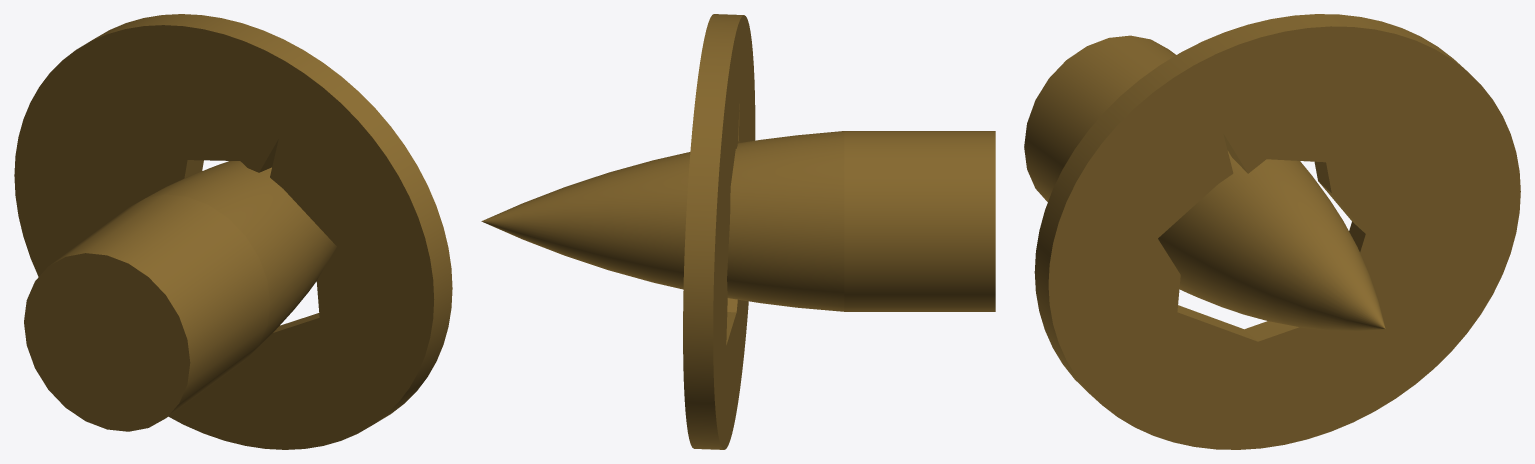
The model's file is Bullet-coin.obj.
The picture shows the model from 3 angles, left to right: view 1: azimuth 30°, elevation 25°; view 2: azimuth 150°, elevation 25°; view 3: azimuth 270°, elevation 25°; orthographic projection. The views are drawn at different scales.
Parts seen in each view (by area): view 1: Body361; view 2: Body361; view 3: Body361.
Part boxes in pixels (x1,y1,x2,y2): Body361: (14,14,452,449); Body361: (481,14,995,449); Body361: (1024,14,1520,449).
Bounding box in the file's own units: 16.22 × 14 × 15.25.
